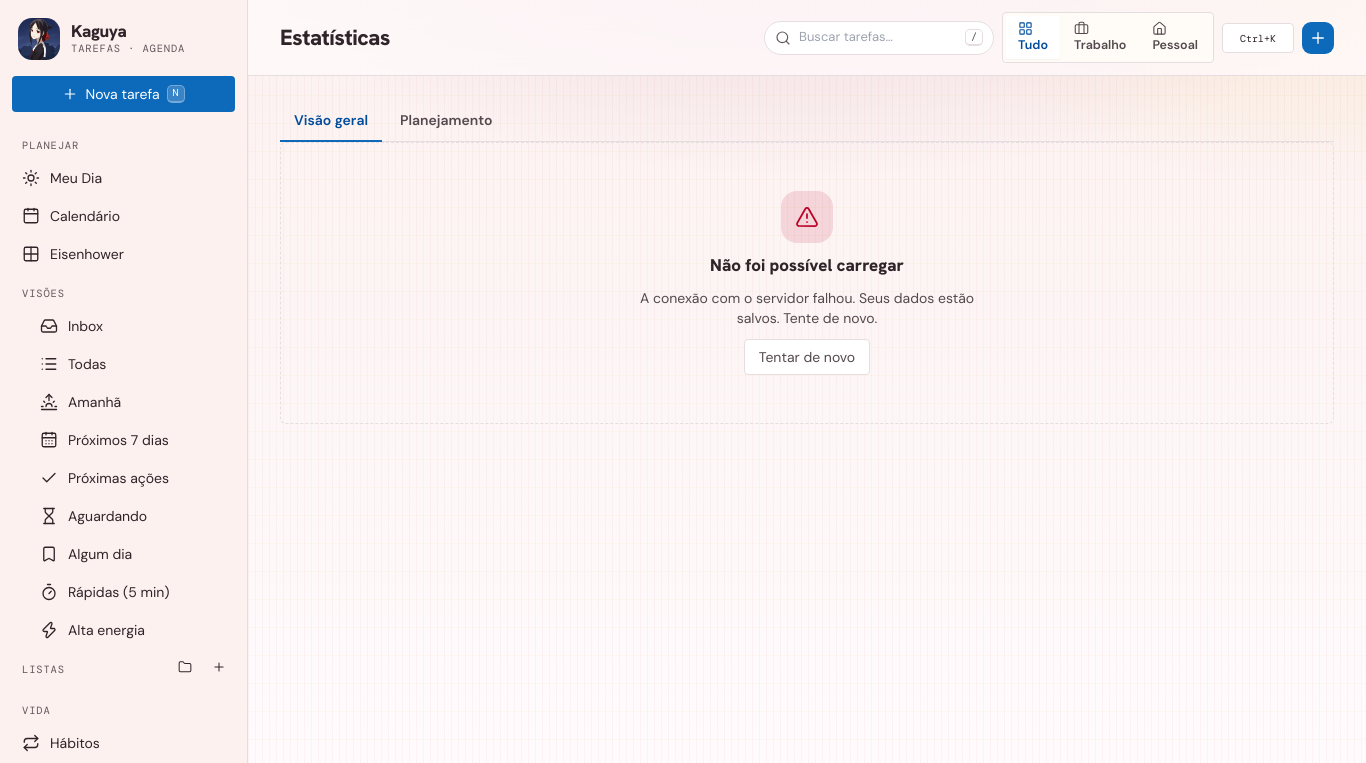
Scenario: Estatísticas › erro mostra tentar de novo
The image size is (1366, 763).
Click the button "Tentar de novo".
click(807, 357)  # box [744,339,870,375]
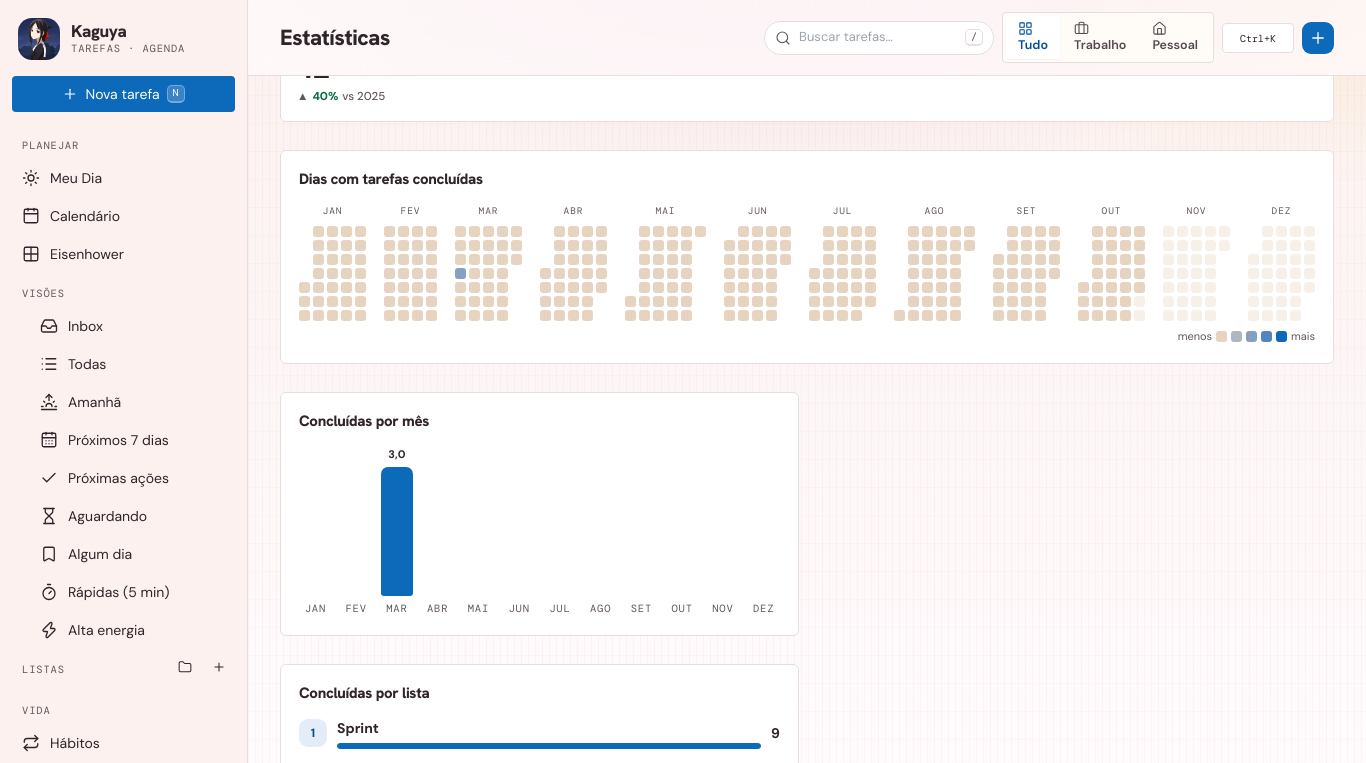
Now the heading "Concluídas por mês" is shown, box [299,411,429,433]
